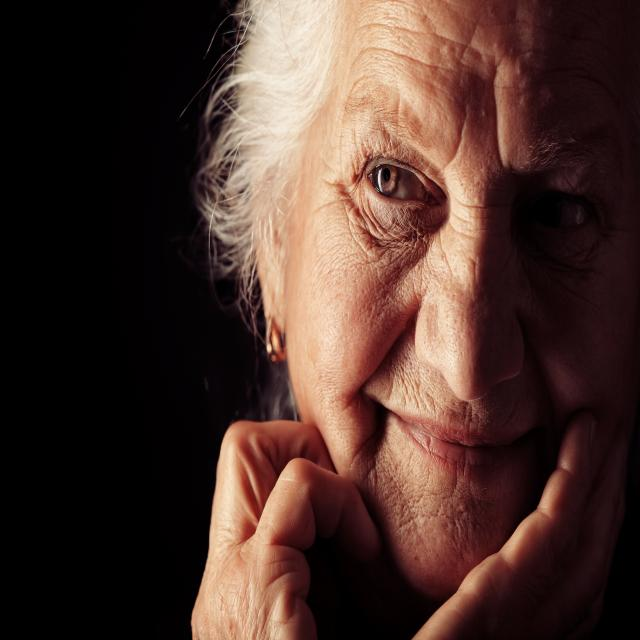Wrinkles: (346, 22, 482, 52), (352, 47, 456, 72), (443, 104, 468, 169)
